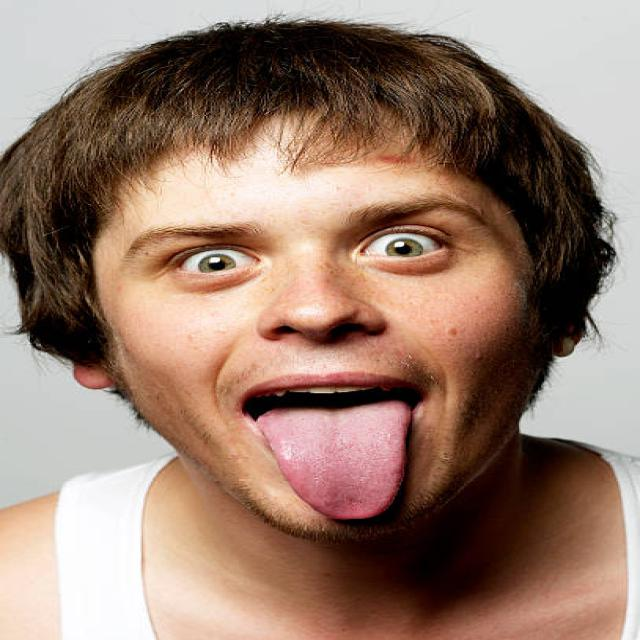tongue: (243, 398, 423, 525)
